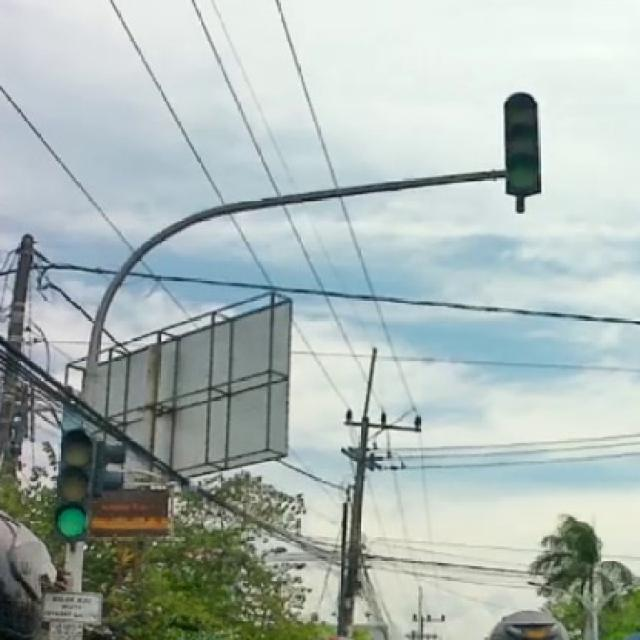green_light: (502, 90, 539, 211), (53, 427, 92, 540)
